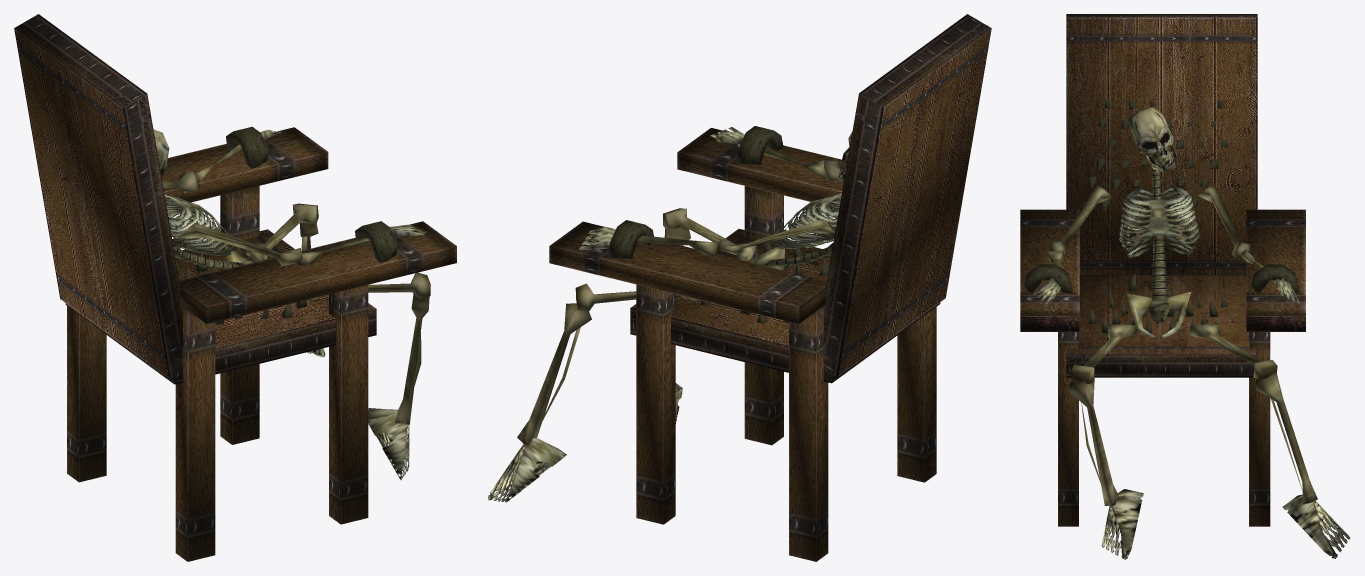
Rendered from NW_DRAGONISLE_TORTURE_04.glb.
The picture shows the model from 3 angles, left to right: view 1: azimuth 30°, elevation 25°; view 2: azimuth 150°, elevation 25°; view 3: azimuth 270°, elevation 25°; orthographic projection. The views are drawn at different scales.
Visible parts, largest first — view 1: Mesh; view 2: Mesh; view 3: Mesh.
Boxes of the visible parts, bbox=[...] form: Mesh: bbox=[14, 14, 456, 561]; Mesh: bbox=[488, 14, 991, 561]; Mesh: bbox=[1020, 14, 1350, 559].
Size of the model in its own units: 1.29 by 1.64 by 1.18.
Materials: 4 (4 with a texture image).
